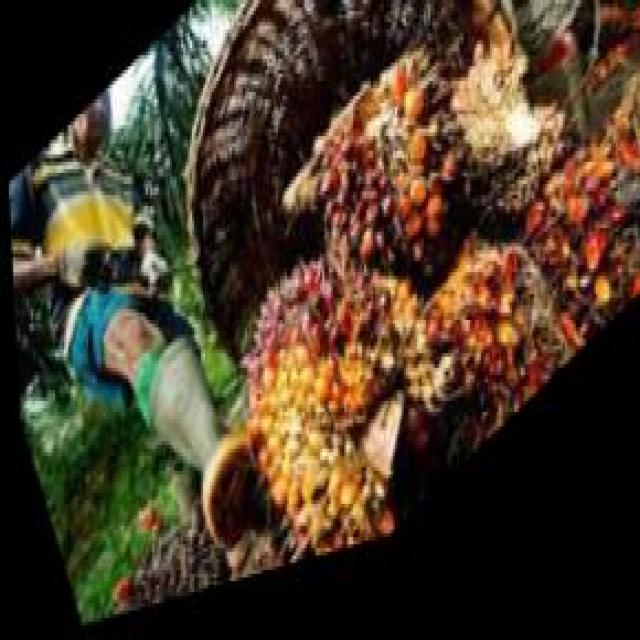Ripefruit: (207, 197, 448, 594), (284, 28, 486, 377), (410, 217, 570, 497), (510, 125, 640, 405)
